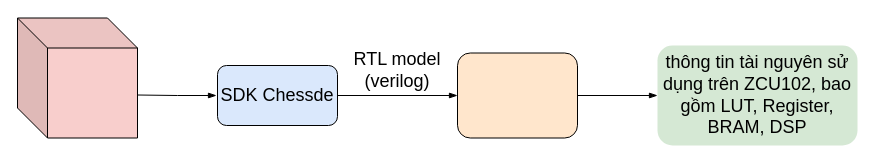
Some shapes in this 875 by 162 pixel diagram are drawn without their labels. The centre of each missing label's shape, as x and y in pixels:
"NPU" belongs at (77,77).
"Vivado (ZCU102)" belongs at (517,95).
